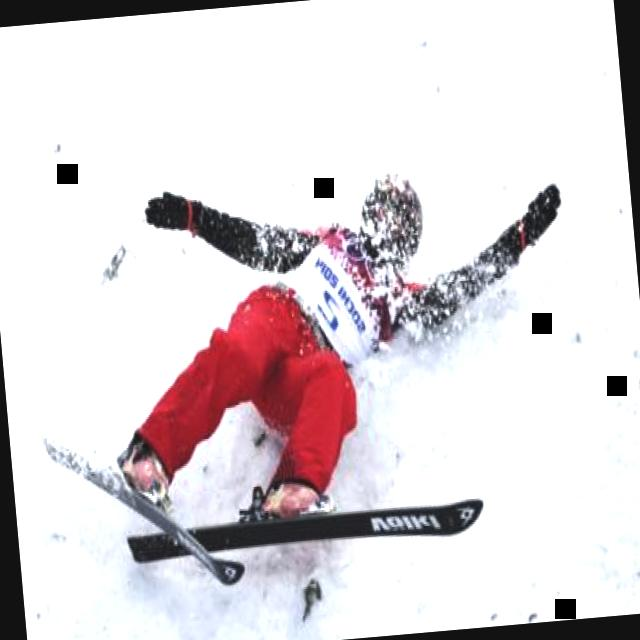Fall-Detected: (61, 106, 562, 569)
